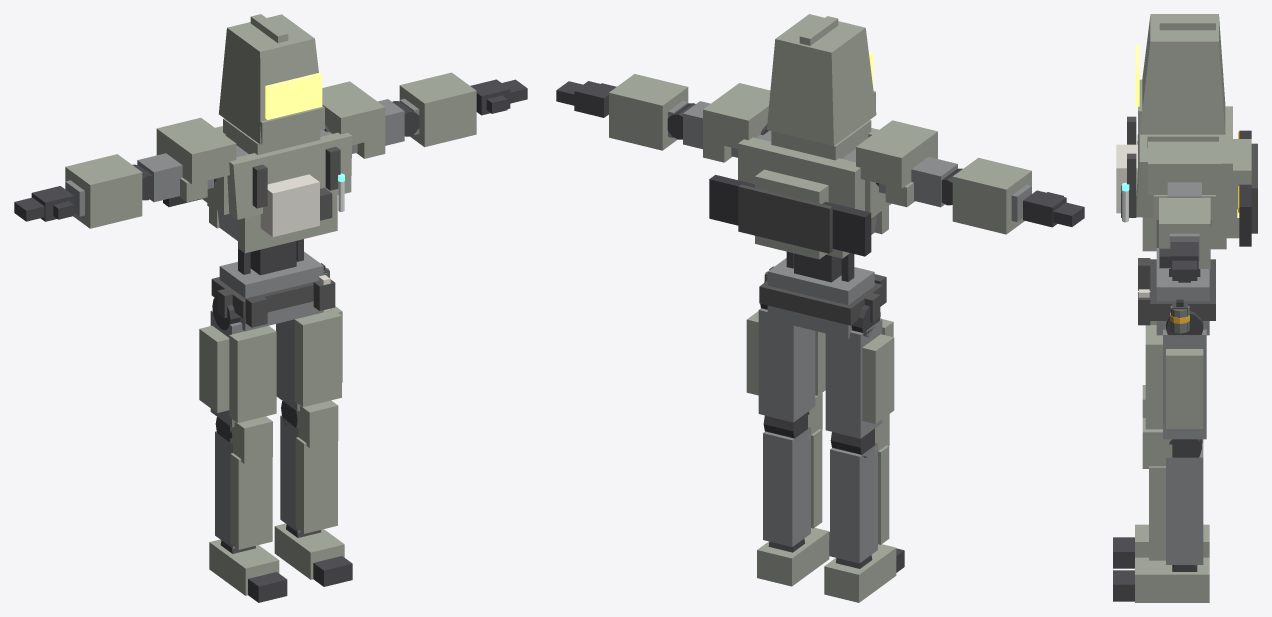
Rendered from char_F1_breacher.glb.
3 views of the same model, side by side, from view 1: azimuth 30°, elevation 25°; view 2: azimuth 150°, elevation 25°; view 3: azimuth 270°, elevation 25° (orthographic). The views are drawn at different scales.
Visible parts, largest first — view 1: Head_mesh, UpperChest_mesh, RightUpperLeg_mesh, LeftLowerLeg_mesh, RightLowerLeg_mesh, Hips_mesh, LeftUpperLeg_mesh, RightUpperArm_mesh, RightLowerArm_mesh, LeftLowerArm_mesh, LeftUpperArm_mesh, Chest_mesh (+10 smaller); view 2: UpperChest_mesh, Head_mesh, LeftLowerLeg_mesh, RightLowerLeg_mesh, RightUpperLeg_mesh, LeftUpperLeg_mesh, Hips_mesh, RightUpperArm_mesh, RightLowerArm_mesh, LeftLowerArm_mesh, LeftUpperArm_mesh, LeftFoot_mesh (+6 smaller); view 3: Head_mesh, LeftLowerLeg_mesh, LeftUpperLeg_mesh, UpperChest_mesh, LeftUpperArm_mesh, Hips_mesh, LeftFoot_mesh, LeftLowerArm_mesh, LeftHand_mesh, Chest_mesh, Slot_ChargeSlot_1, RightFoot_mesh (+5 smaller).
Boxes of the visible parts, x1,y1,x2,y2 form: Head_mesh: [218, 14, 325, 144]; UpperChest_mesh: [202, 118, 352, 220]; RightUpperLeg_mesh: [199, 296, 276, 427]; LeftLowerLeg_mesh: [280, 400, 338, 533]; RightLowerLeg_mesh: [215, 416, 272, 549]; Hips_mesh: [211, 251, 335, 331]; LeftUpperLeg_mesh: [276, 306, 342, 411]; RightUpperArm_mesh: [137, 117, 236, 202]; RightLowerArm_mesh: [65, 154, 153, 228]; LeftLowerArm_mesh: [392, 72, 476, 147]; LeftUpperArm_mesh: [322, 81, 404, 158]; Chest_mesh: [209, 195, 337, 253]; UpperChest_mesh: [738, 120, 891, 259]; Head_mesh: [766, 14, 876, 145]; LeftLowerLeg_mesh: [763, 393, 822, 546]; RightLowerLeg_mesh: [830, 414, 889, 563]; RightUpperLeg_mesh: [825, 305, 894, 438]; LeftUpperLeg_mesh: [746, 303, 825, 422]; Hips_mesh: [759, 258, 886, 338]; RightUpperArm_mesh: [856, 120, 957, 207]; RightLowerArm_mesh: [941, 157, 1031, 234]; LeftLowerArm_mesh: [609, 74, 695, 150]; LeftUpperArm_mesh: [683, 83, 770, 162]; LeftFoot_mesh: [757, 528, 829, 586]; Head_mesh: [1135, 14, 1225, 134]; LeftLowerLeg_mesh: [1142, 418, 1203, 564]; LeftUpperLeg_mesh: [1145, 311, 1206, 439]; UpperChest_mesh: [1121, 106, 1257, 238]; LeftUpperArm_mesh: [1148, 141, 1221, 215]; Hips_mesh: [1138, 248, 1215, 335]; LeftFoot_mesh: [1135, 557, 1209, 602]; LeftLowerArm_mesh: [1159, 197, 1210, 268]; LeftHand_mesh: [1159, 242, 1198, 280]; Chest_mesh: [1142, 217, 1226, 251]; Slot_ChargeSlot_1: [1237, 184, 1251, 246]; RightFoot_mesh: [1135, 524, 1209, 557].
Size of the model in its own units: 1.92 by 1.97 by 0.465.
